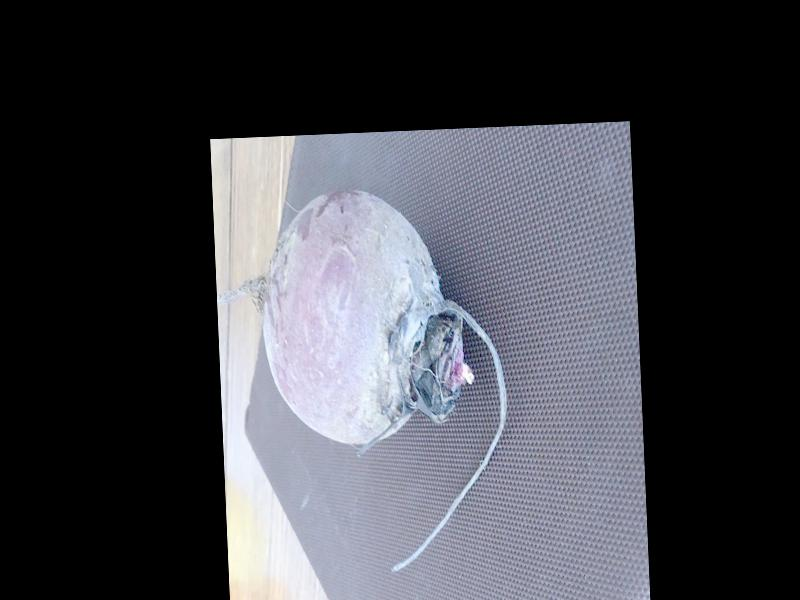Beet: (213, 182, 513, 579)
